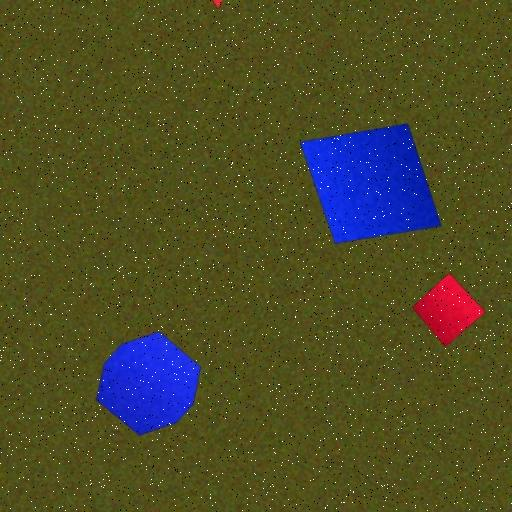BLUE_SQUARE: (300, 122, 442, 244)
RED_SQUARE: (412, 272, 486, 347)
